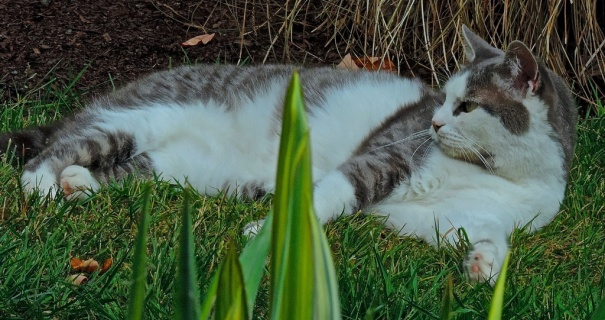Cat: (16, 19, 580, 285)
